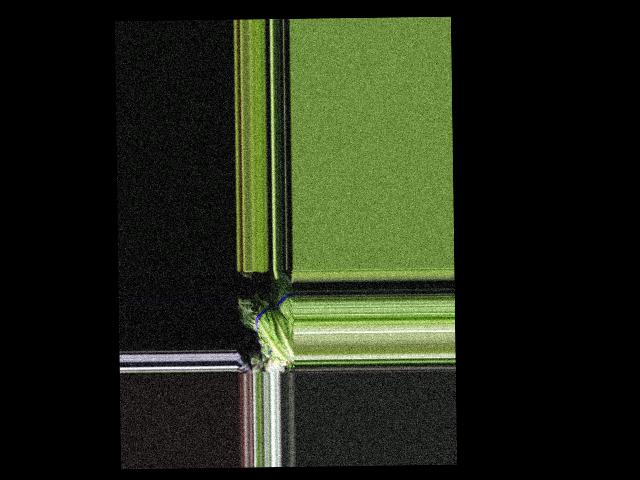lettuce: (241, 293, 294, 358)
